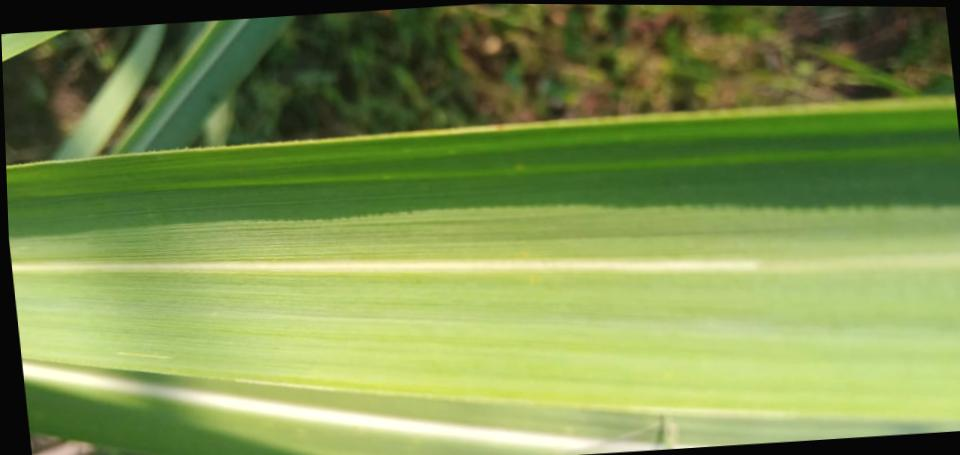Healthy: (6, 107, 960, 262), (12, 266, 960, 421), (68, 366, 950, 446), (23, 374, 566, 455)
